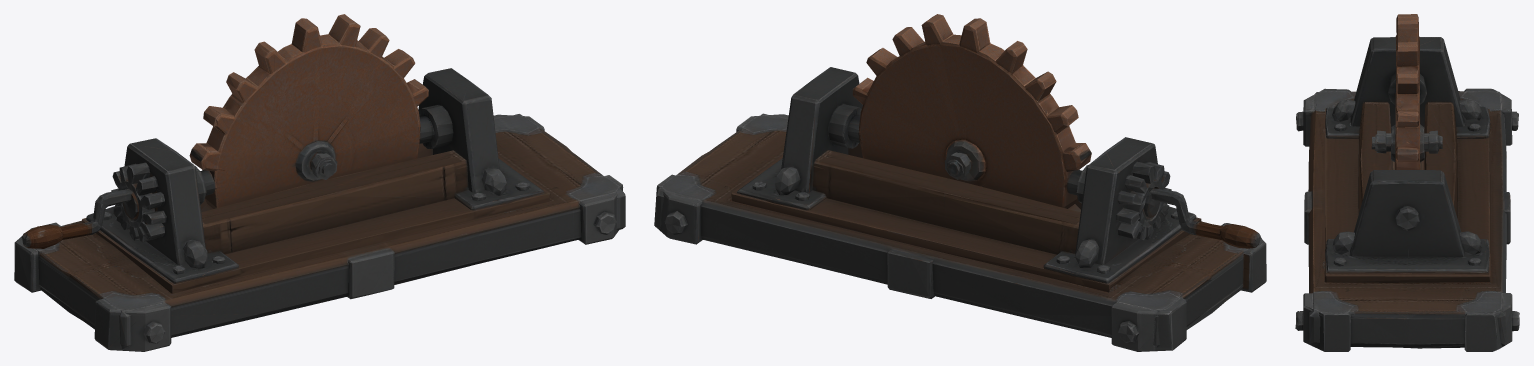
3 views of the same model, side by side, from view 1: azimuth 30°, elevation 25°; view 2: azimuth 150°, elevation 25°; view 3: azimuth 270°, elevation 25° (orthographic). The views are drawn at different scales.
Parts seen in each view (by area): view 1: mesh_node; view 2: mesh_node; view 3: mesh_node.
Boxes of the visible parts, <box> form: mesh_node: <box>14,14,625,351</box>; mesh_node: <box>654,14,1266,351</box>; mesh_node: <box>1295,14,1519,351</box>.
Size of the model in its own units: 2 by 0.9023 by 0.7773.
Materials: 1 (1 with a texture image).
